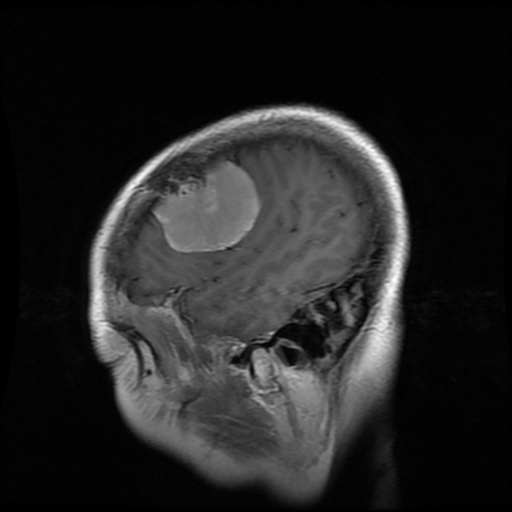meningioma: (156, 160, 260, 252)
